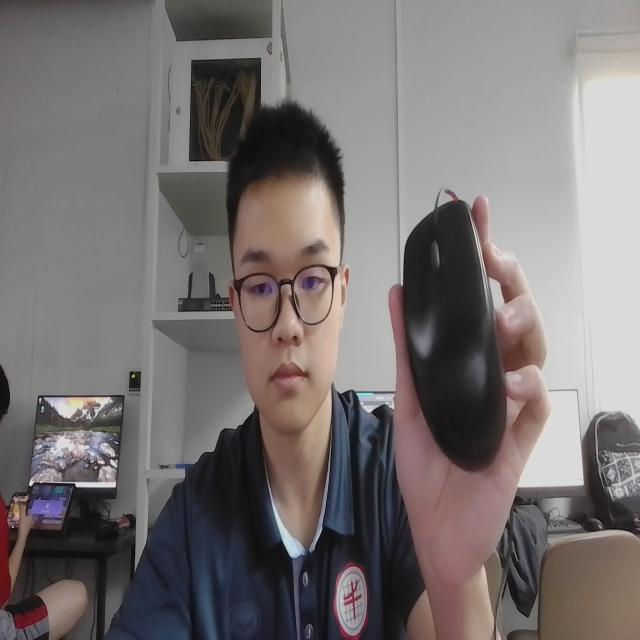mouse: (394, 194, 516, 483)
